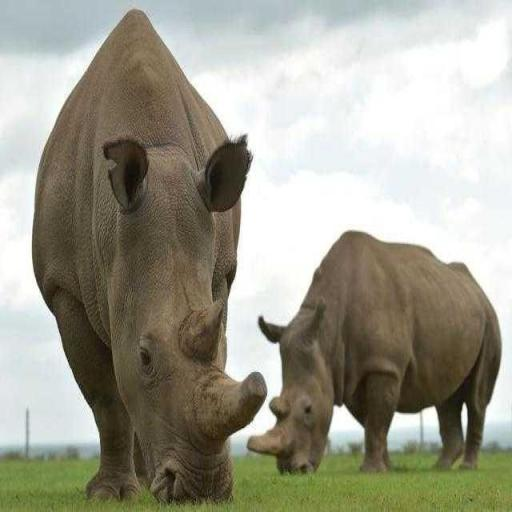Rhino: (30, 7, 268, 504), (246, 228, 502, 476)
